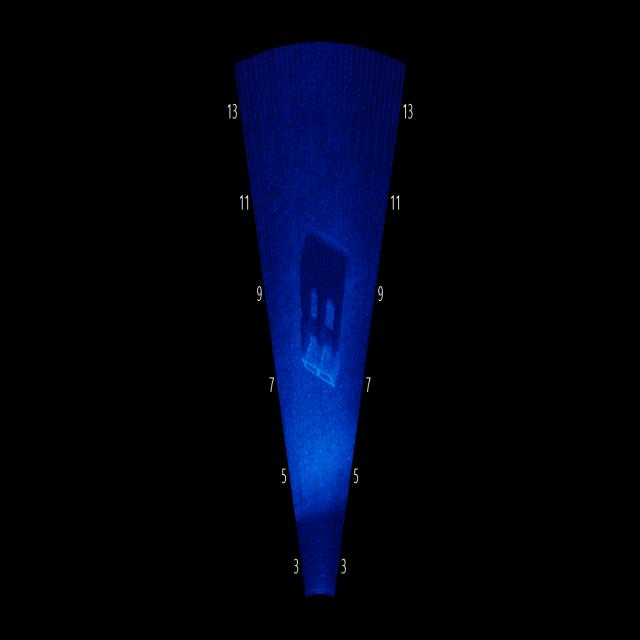square: (299, 329, 345, 398)
